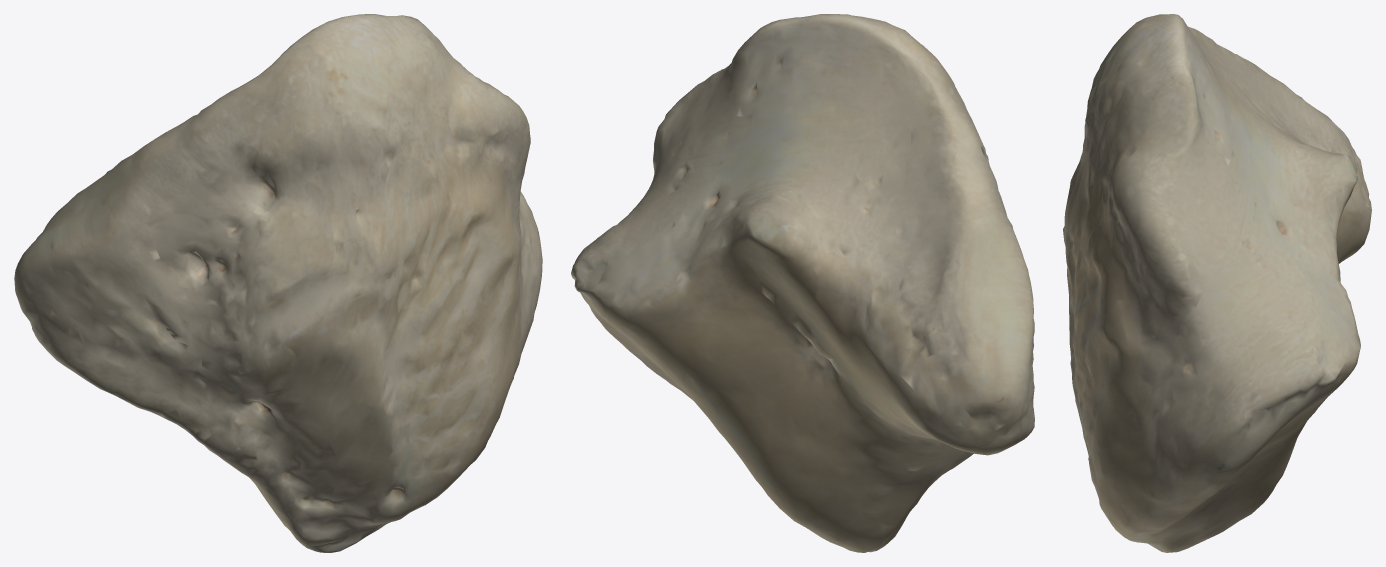
The model's file is kneecap_patella_horse.glb.
The picture shows the model from 3 angles, left to right: view 1: azimuth 30°, elevation 25°; view 2: azimuth 150°, elevation 25°; view 3: azimuth 270°, elevation 25°; orthographic projection.
Parts seen in each view (by area): view 1: Kneischeibe Pferd_li.001; view 2: Kneischeibe Pferd_li.001; view 3: Kneischeibe Pferd_li.001.
Part boxes in pixels (x1,y1,x2,y2): Kneischeibe Pferd_li.001: [14, 14, 542, 552]; Kneischeibe Pferd_li.001: [571, 14, 1034, 552]; Kneischeibe Pferd_li.001: [1063, 14, 1371, 552].
Bounding box in the file's own units: 8412 × 8944 × 4716.
Materials: 1 (1 with a texture image).
